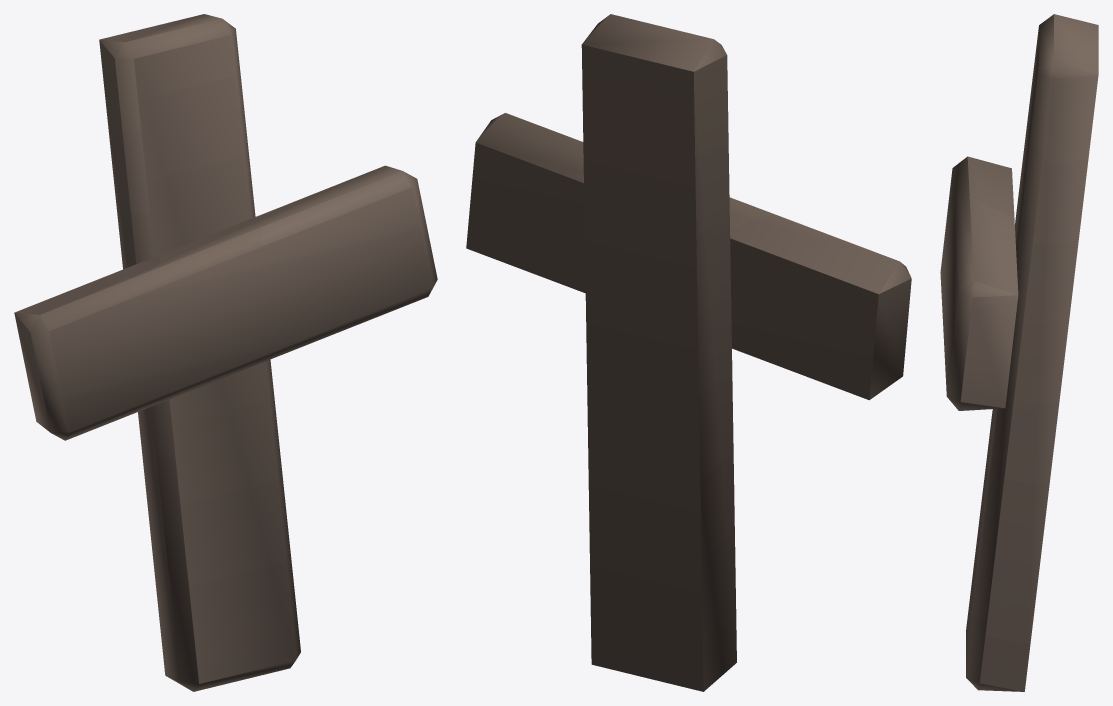
Rendered from hb_gravemarker_a.glb.
3 renders of one model, left to right at view 1: azimuth 30°, elevation 25°; view 2: azimuth 150°, elevation 25°; view 3: azimuth 270°, elevation 25°, orthographic. The views are drawn at different scales.
Visible parts, largest first — view 1: gravemarker_A; view 2: gravemarker_A; view 3: gravemarker_A.
Part boxes in pixels (x1,y1,x2,y2): gravemarker_A: [14, 14, 437, 691]; gravemarker_A: [466, 14, 911, 691]; gravemarker_A: [940, 14, 1098, 691].
Size of the model in its own units: 0.6738 by 1 by 0.2326.
Materials: 1 (1 with a texture image).
